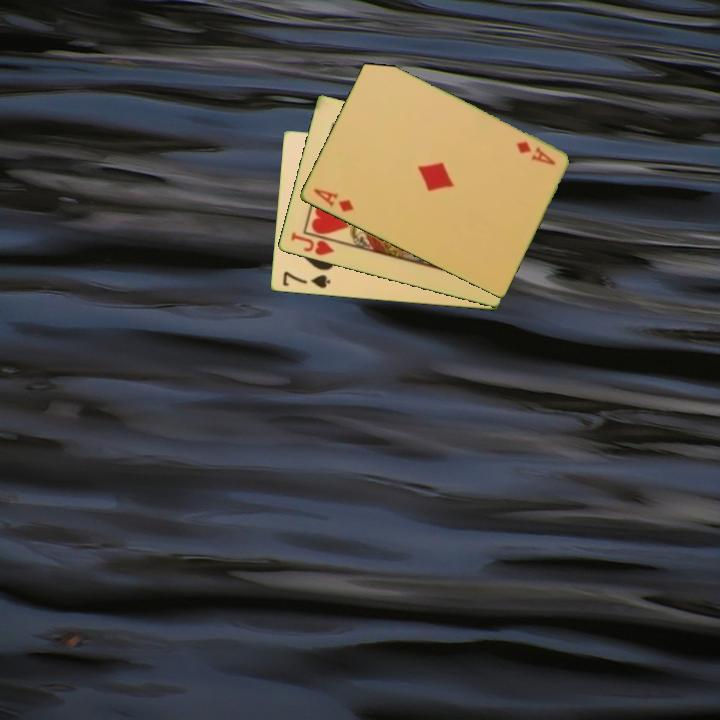7s: (279, 268, 333, 291)
Ad: (309, 185, 356, 215), (512, 138, 558, 168)
Jh: (287, 229, 337, 259)
